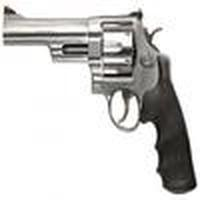gun: (2, 8, 200, 176)
